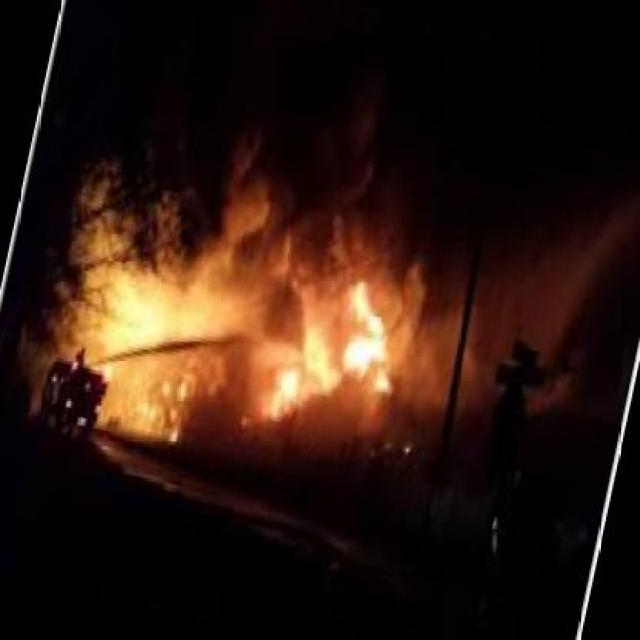Fire: (268, 299, 399, 416), (118, 353, 200, 453)
Smoke: (84, 14, 428, 154), (468, 26, 628, 304), (84, 169, 432, 291)
